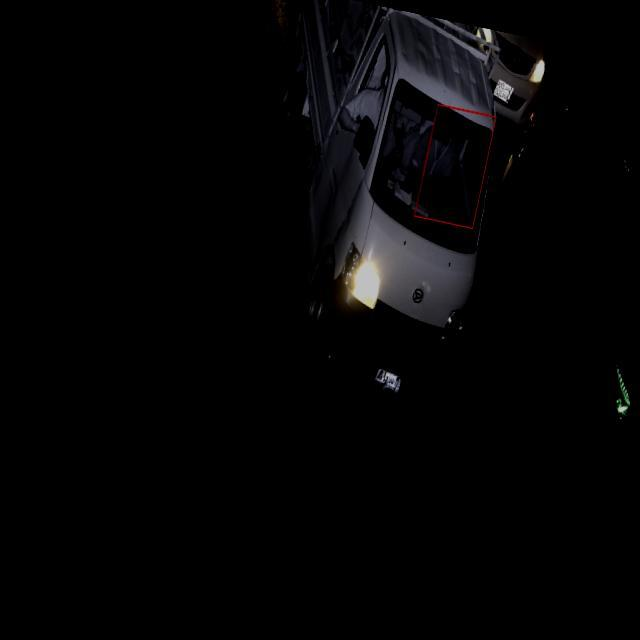windshield: (368, 76, 495, 258)
